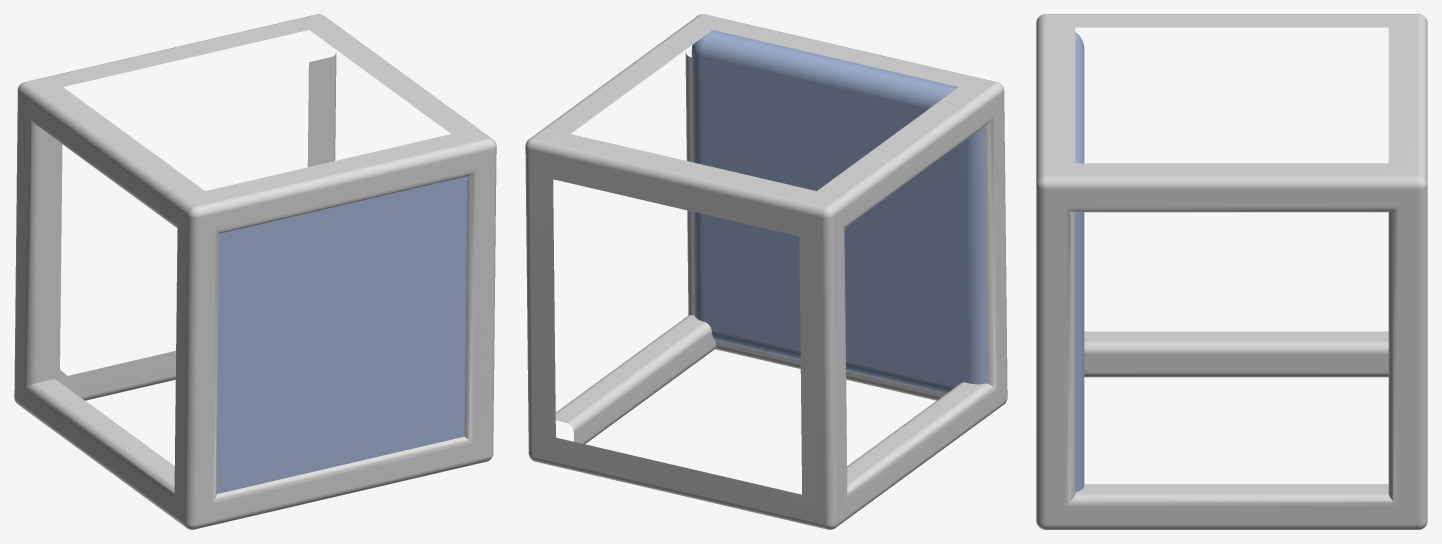
The model's file is projectCube.glb.
The picture shows the model from 3 angles, left to right: view 1: azimuth 30°, elevation 25°; view 2: azimuth 150°, elevation 25°; view 3: azimuth 270°, elevation 25°; orthographic projection. The views are drawn at different scales.
Parts seen in each view (by area): view 1: Box, Box 1; view 2: Box, Box 1; view 3: Box, Box 1.
Part boxes in pixels (box(x1,y1,x2,y2)): Box: box(14, 14, 496, 529); Box 1: box(216, 176, 467, 493); Box: box(525, 14, 1007, 529); Box 1: box(691, 30, 987, 394); Box: box(1036, 14, 1427, 529); Box 1: box(1075, 32, 1084, 492).
Bounding box in the file's own units: 0.1011 × 0.1011 × 0.1.
